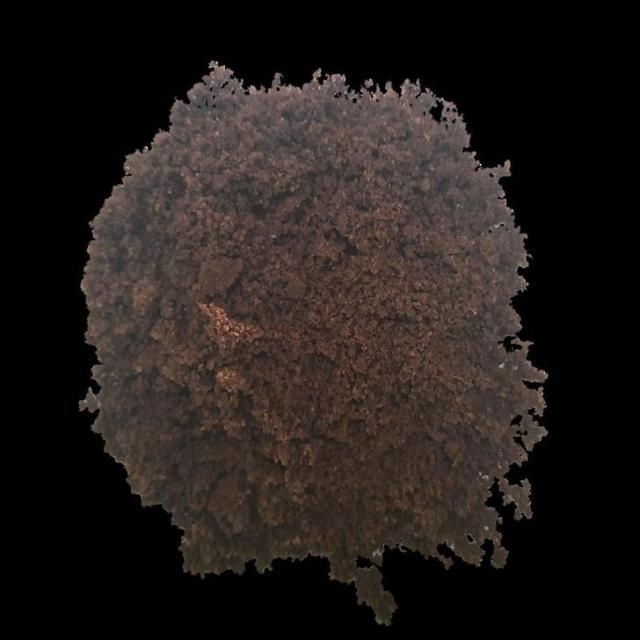Black Soil: (213, 151, 455, 508)
